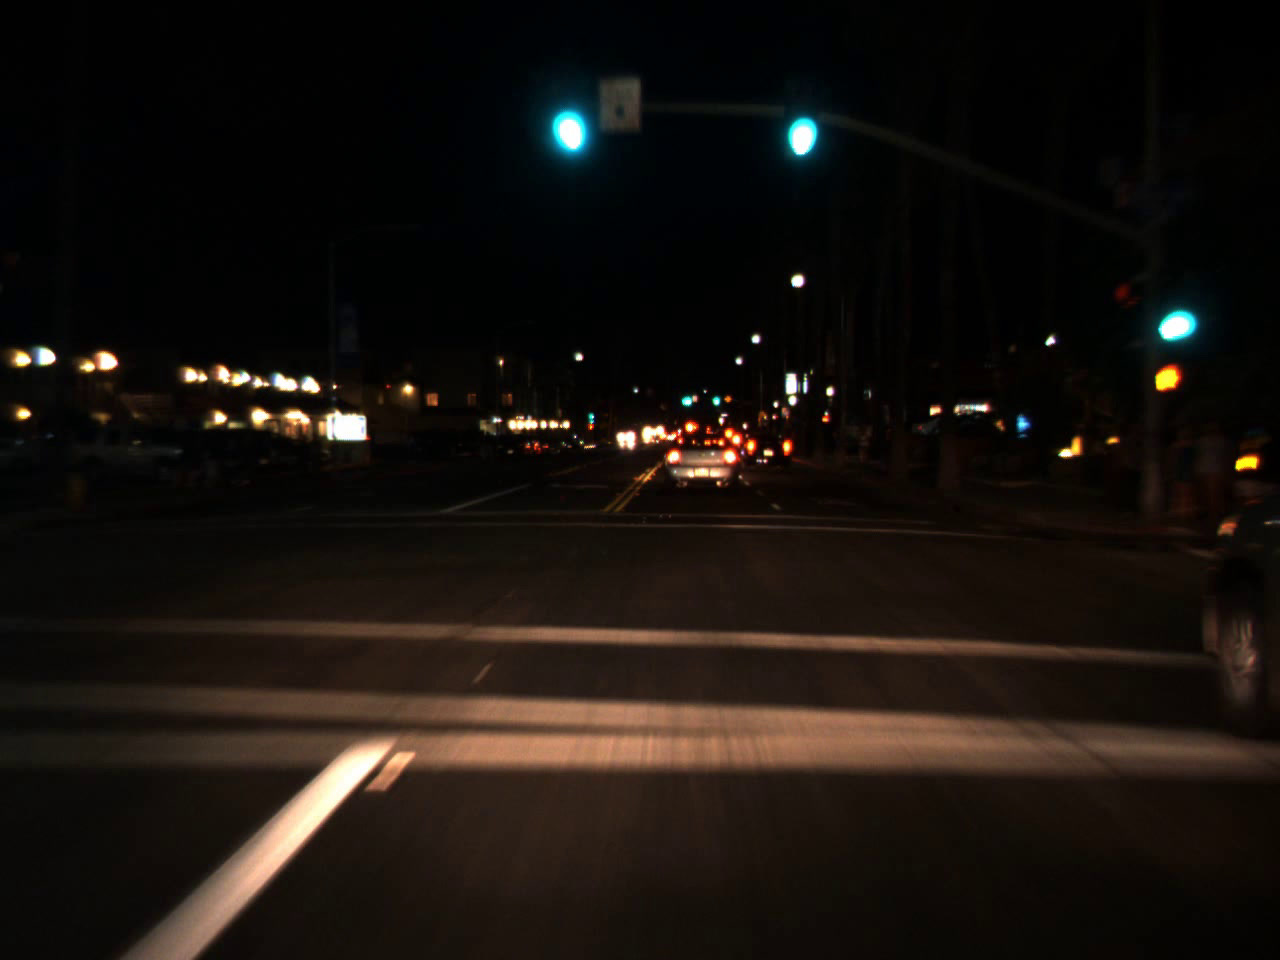go: (1144, 276, 1196, 354), (546, 73, 589, 160), (777, 82, 820, 166), (677, 386, 695, 407), (709, 389, 721, 407), (587, 409, 594, 421)
